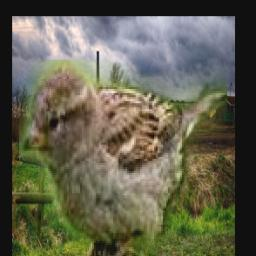Sparrow: (20, 61, 228, 256)
